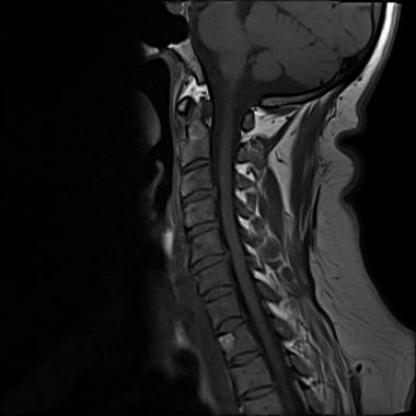Disc Protrusionrotation: (187, 254, 229, 274), (179, 187, 219, 206), (200, 283, 238, 302)
